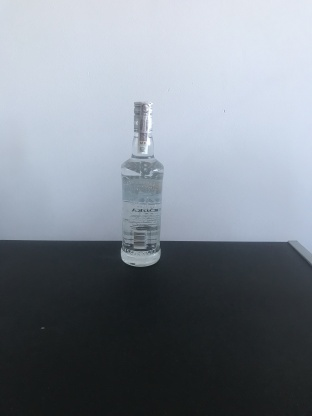nakretka: (131, 97, 155, 136)
